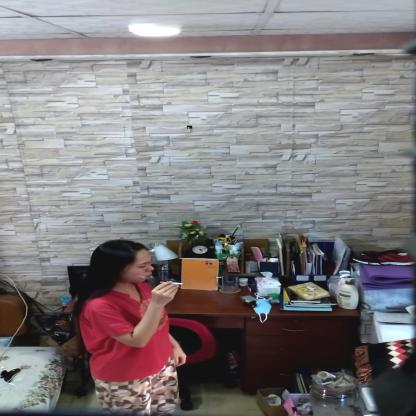cigarette: (171, 282, 185, 285)
person: (78, 239, 186, 415)
